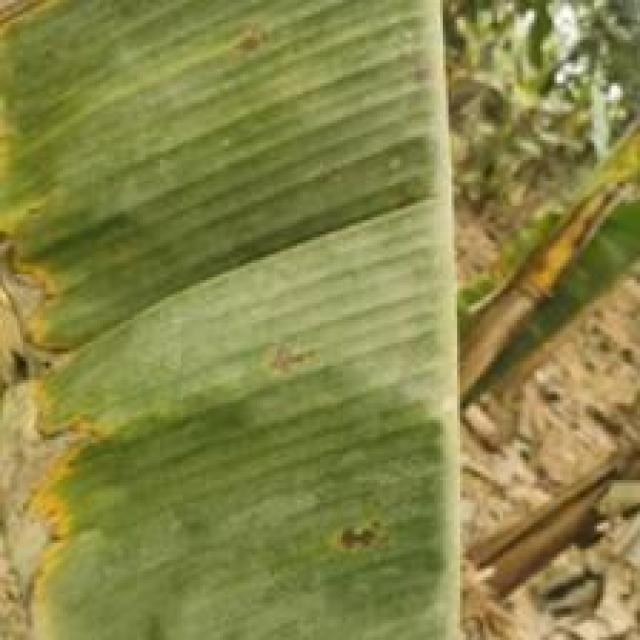Downey_mildrew: (0, 0, 180, 640), (402, 9, 472, 153), (247, 319, 335, 401), (294, 498, 402, 559), (223, 16, 308, 80)
